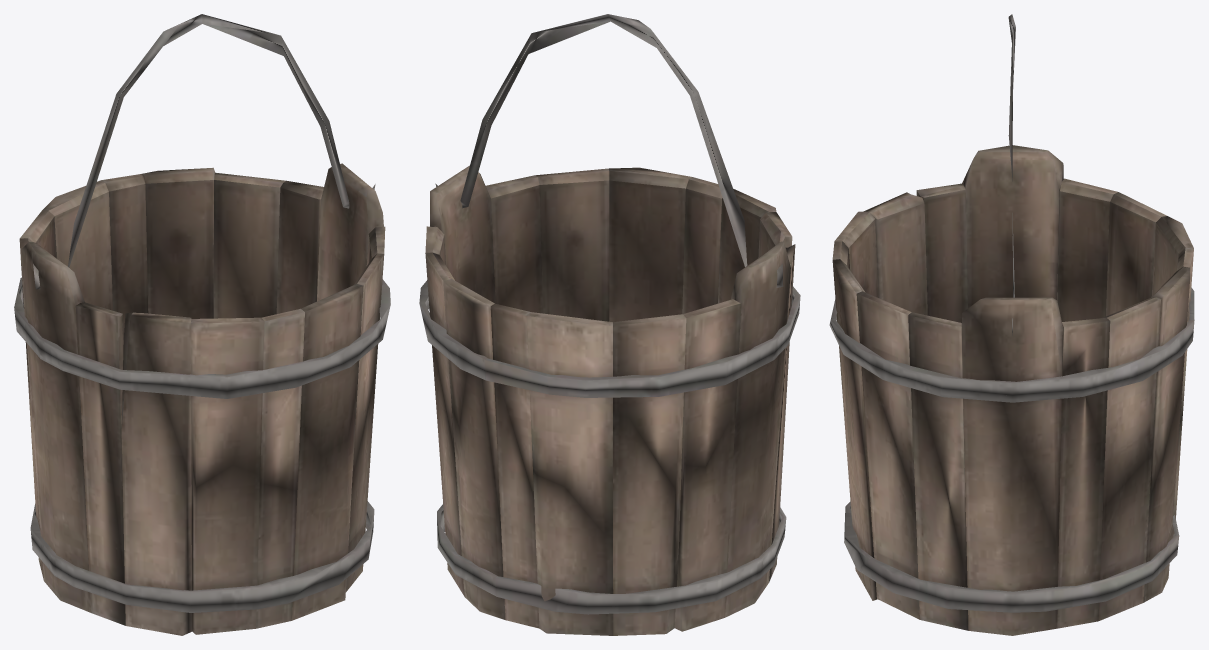
The model's file is wooden_bucket_01.glb.
3 renders of one model, left to right at view 1: azimuth 30°, elevation 25°; view 2: azimuth 150°, elevation 25°; view 3: azimuth 270°, elevation 25°, orthographic. The views are drawn at different scales.
Visible parts, largest first — view 1: wooden_bucket_01; view 2: wooden_bucket_01; view 3: wooden_bucket_01.
Part boxes in pixels (bbox=[...]): wooden_bucket_01: bbox=[14, 14, 390, 635]; wooden_bucket_01: bbox=[419, 14, 800, 635]; wooden_bucket_01: bbox=[829, 14, 1194, 635].
Bounding box in the file's own units: 0.3577 × 0.5478 × 0.3354.
Materials: 1 (1 with a texture image).
